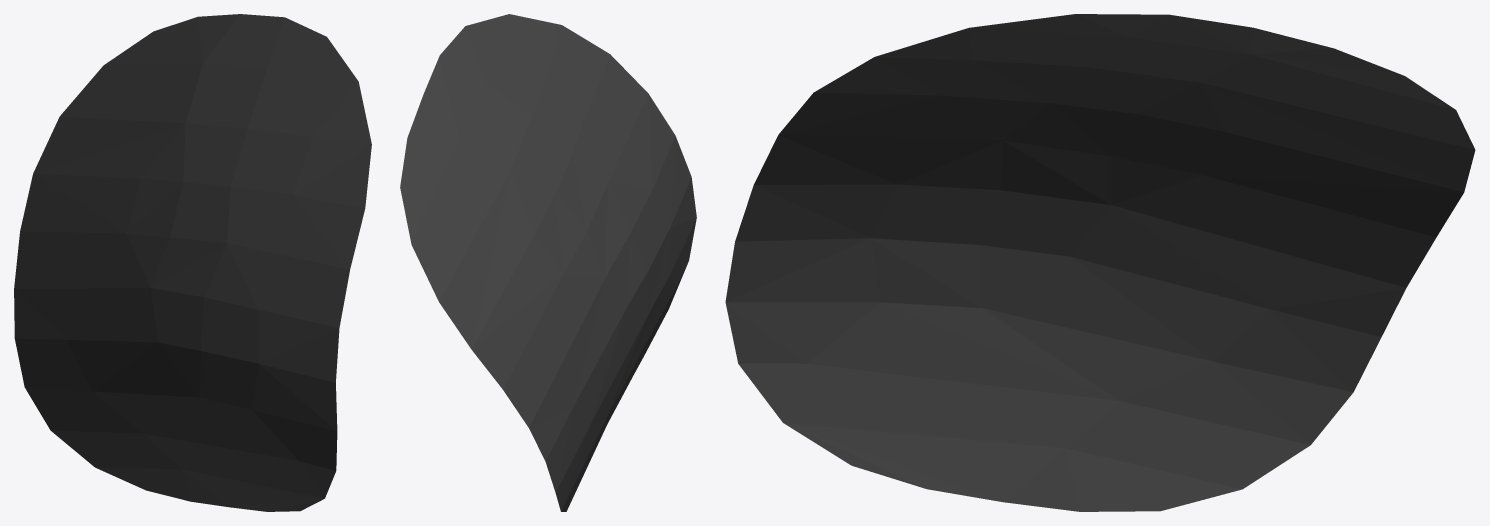
Rendered from Ulna_tuberosity_ulna.glb.
3 renders of one model, left to right at view 1: azimuth 30°, elevation 25°; view 2: azimuth 150°, elevation 25°; view 3: azimuth 270°, elevation 25°, orthographic. The views are drawn at different scales.
Visible parts, largest first — view 1: Ulna_tuberosity_ulna; view 2: Ulna_tuberosity_ulna; view 3: Ulna_tuberosity_ulna.
Boxes of the visible parts, left/top/right/bottom form: Ulna_tuberosity_ulna: left=14, top=14, right=371, bottom=511; Ulna_tuberosity_ulna: left=400, top=14, right=696, bottom=511; Ulna_tuberosity_ulna: left=725, top=14, right=1475, bottom=511.
Bounding box in the file's own units: 0.0397 × 0.0837 × 0.0955.
Materials: 1 (1 with a texture image).
